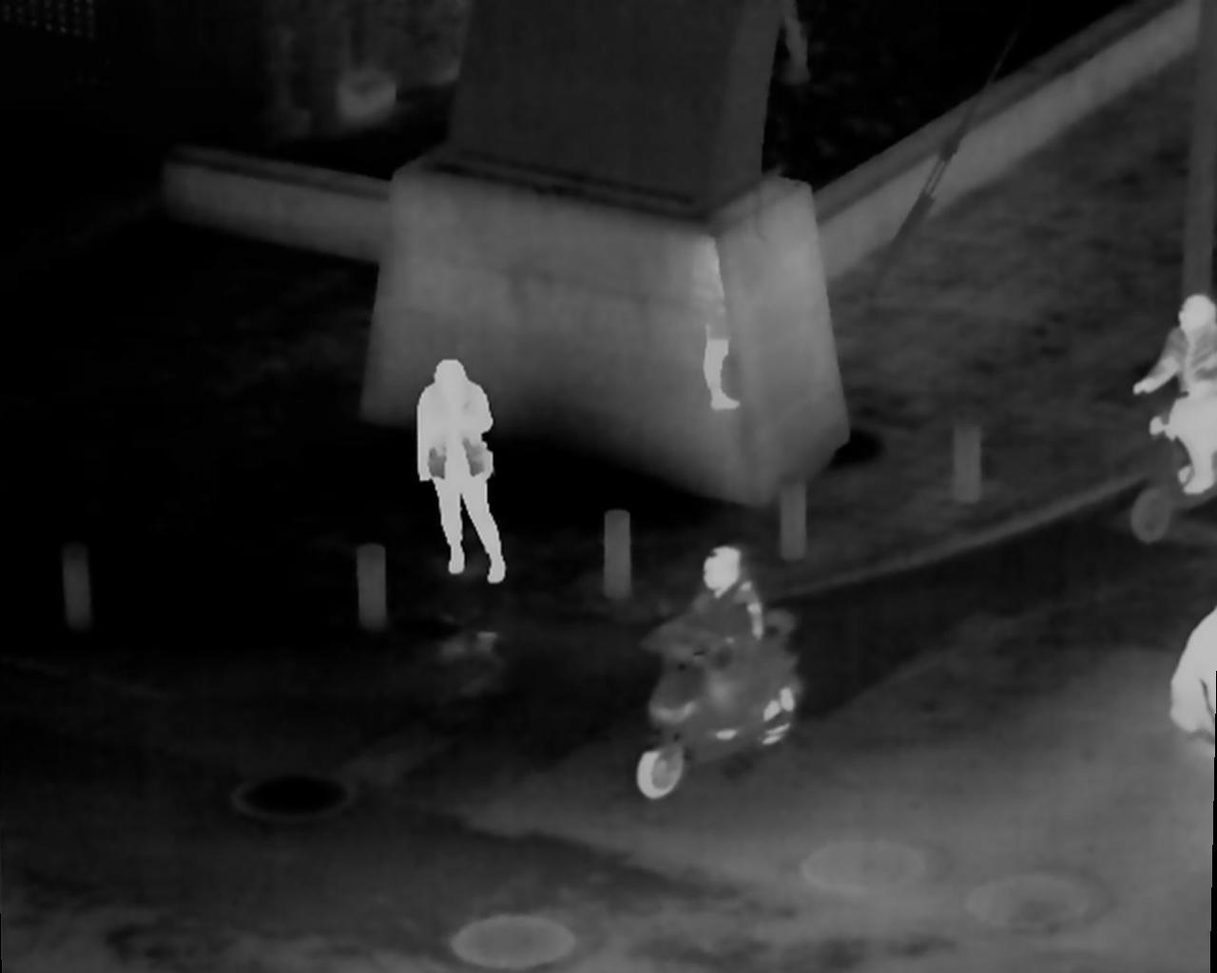person: (415, 356, 509, 586), (682, 538, 764, 770), (1152, 296, 1217, 504), (1166, 605, 1217, 752)
